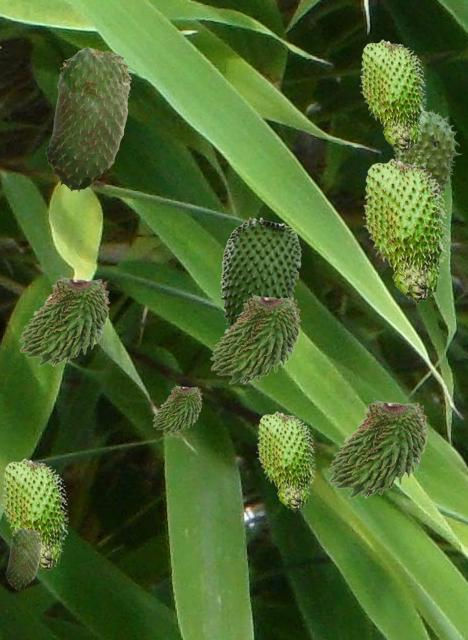guyabano: (45, 46, 131, 191), (362, 158, 448, 303), (327, 397, 427, 497), (220, 217, 300, 325), (209, 292, 300, 383), (18, 274, 109, 365), (359, 39, 426, 152), (1, 458, 68, 571), (392, 108, 461, 199), (256, 411, 315, 511), (152, 384, 201, 433), (5, 527, 41, 589)
